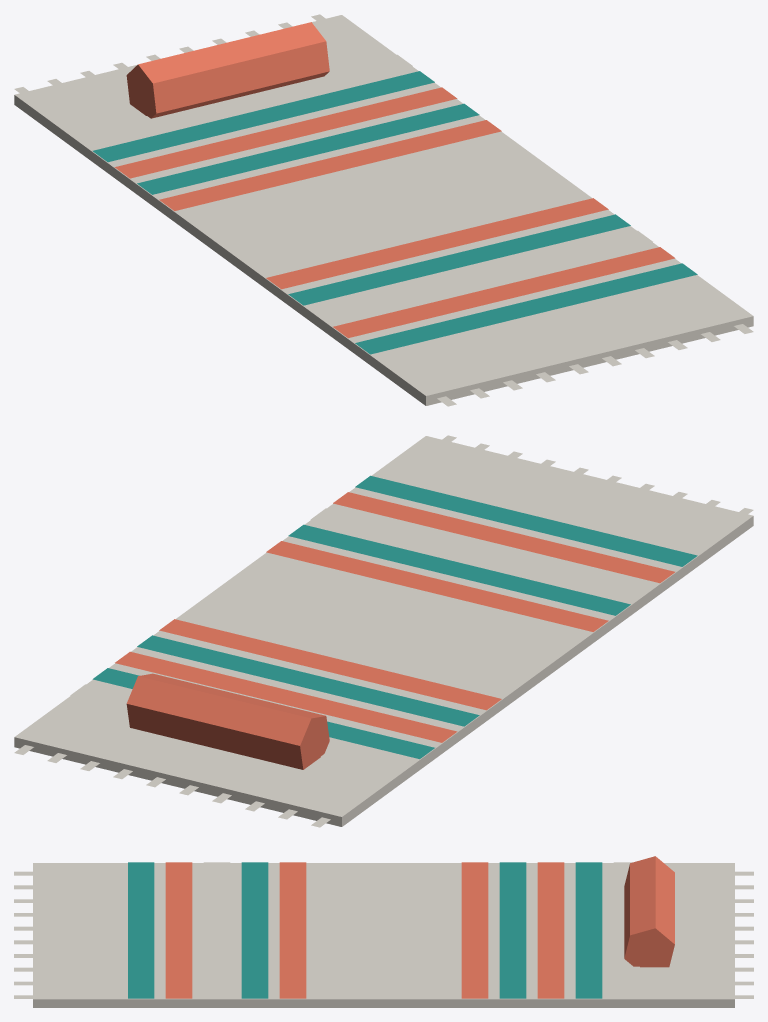
Rendered from beach_towel.glb.
3 views of the same model, one above another, from view 1: azimuth 30°, elevation 25°; view 2: azimuth 150°, elevation 25°; view 3: azimuth 270°, elevation 25° (orthographic). The views are drawn at different scales.
Parts seen in each view (by area): view 1: Body; view 2: Body; view 3: Body.
Part boxes in pixels (bbox=[...]): Body: bbox=[14, 14, 753, 406]; Body: bbox=[14, 435, 753, 827]; Body: bbox=[14, 856, 753, 1007].
Bounding box in the file's own units: 0.85 × 0.1383 × 1.95.
